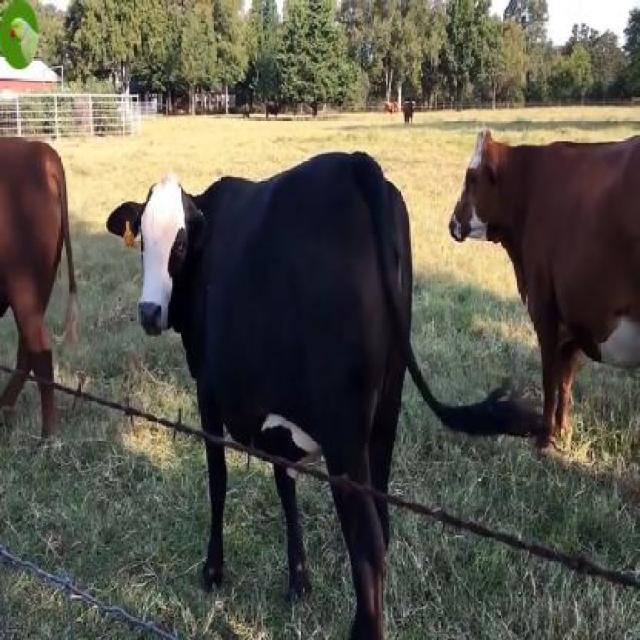Cow: (109, 151, 414, 638), (448, 129, 638, 457)
